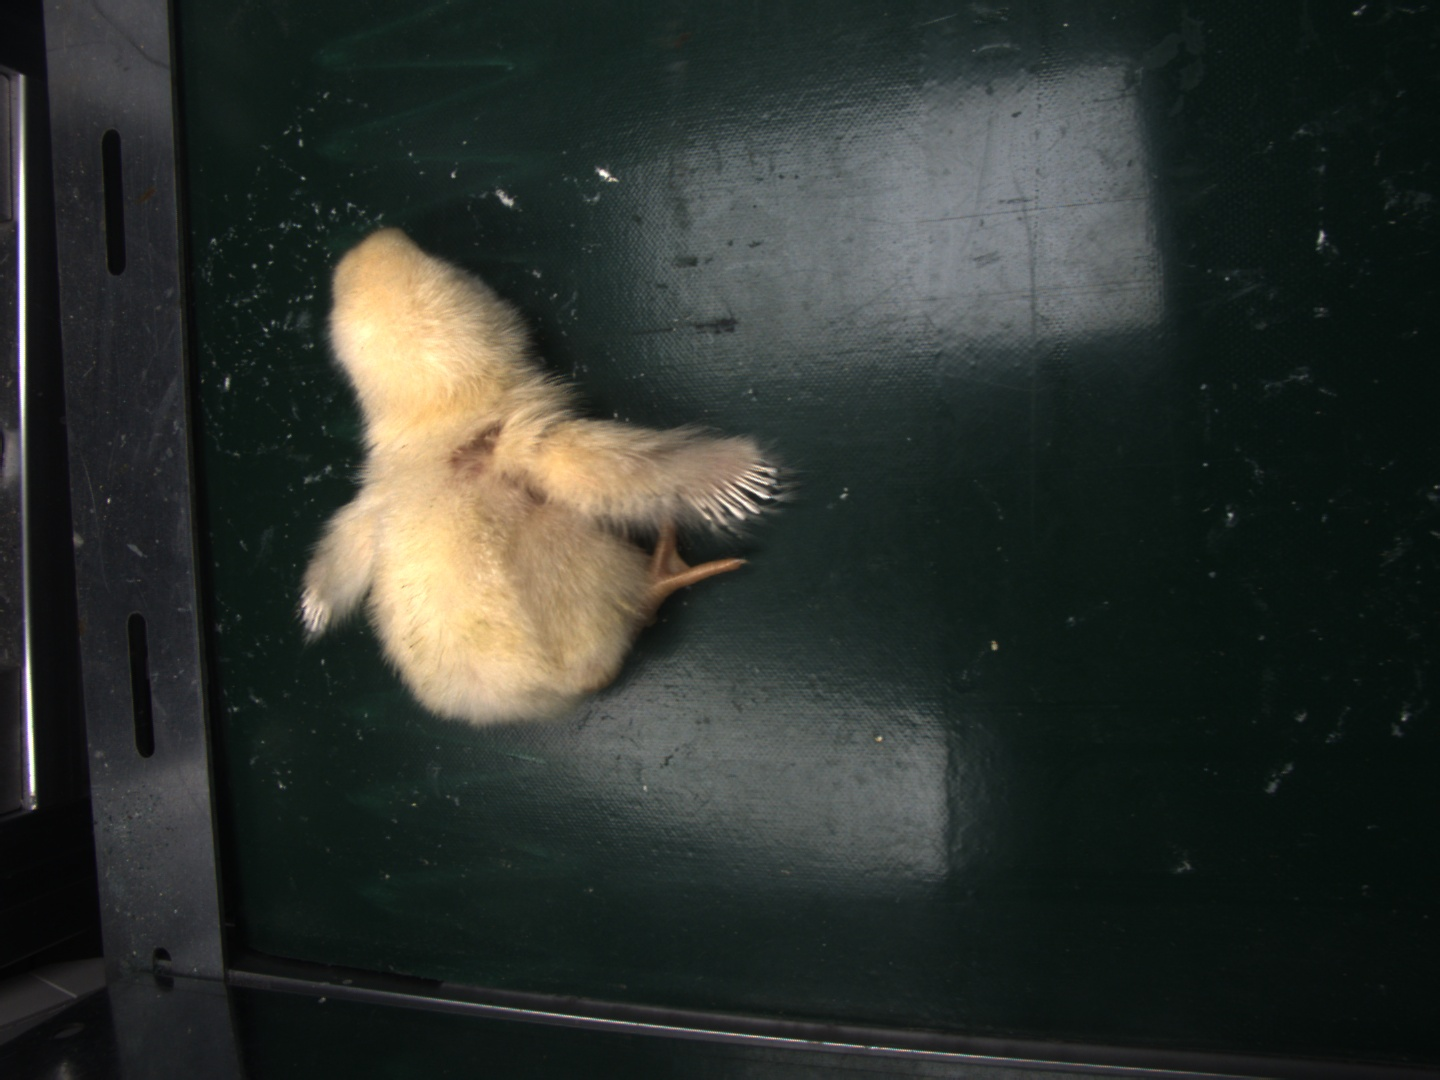male: (701, 458, 783, 529)
